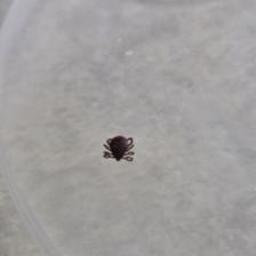Rhipicephalus sanguineus: (102, 135, 135, 163)
